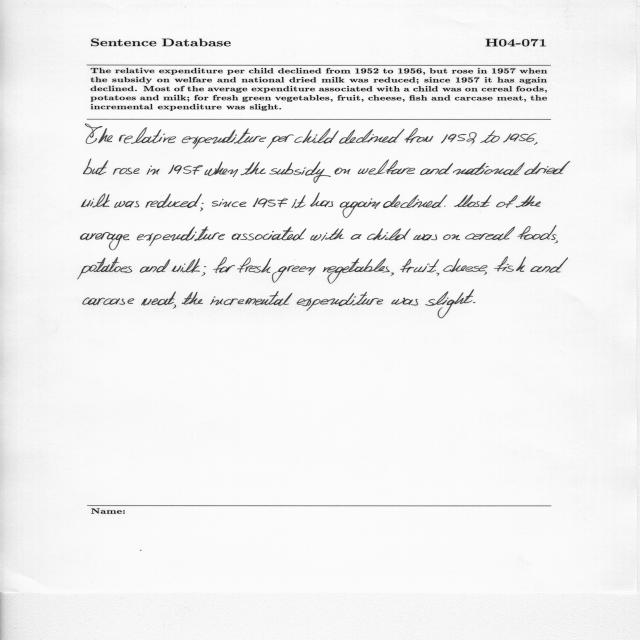word: (269, 161, 351, 183), (182, 128, 266, 149), (323, 258, 390, 284), (137, 227, 225, 246), (297, 292, 383, 311), (425, 290, 474, 318), (210, 291, 292, 306), (78, 257, 132, 279), (232, 227, 307, 241), (339, 129, 405, 144), (119, 127, 176, 144), (453, 163, 525, 176), (383, 194, 448, 208), (81, 232, 130, 250), (145, 193, 202, 208), (340, 198, 381, 218), (272, 266, 316, 283), (369, 159, 415, 175), (294, 128, 339, 144), (465, 227, 515, 241), (524, 161, 570, 175), (444, 258, 488, 272), (530, 257, 568, 273), (518, 225, 557, 240), (367, 228, 411, 241), (85, 124, 113, 144), (400, 259, 439, 273), (237, 257, 271, 273), (205, 162, 239, 177), (141, 292, 176, 306), (454, 194, 491, 207), (494, 257, 526, 272), (310, 228, 344, 241), (404, 128, 433, 143), (441, 132, 477, 144), (140, 259, 170, 273), (172, 258, 200, 273), (83, 298, 134, 306), (81, 194, 110, 208), (84, 159, 109, 175), (420, 163, 453, 175), (267, 135, 294, 149), (213, 257, 235, 273), (168, 165, 203, 175), (253, 198, 288, 208), (515, 195, 541, 208), (241, 162, 266, 175), (310, 193, 333, 207), (503, 134, 537, 143), (496, 195, 518, 208), (212, 199, 247, 207), (182, 292, 203, 305), (480, 130, 500, 143), (391, 298, 418, 306), (113, 168, 140, 175), (114, 201, 140, 208), (292, 195, 306, 208), (413, 234, 437, 240), (147, 166, 160, 175), (443, 234, 460, 240), (358, 168, 369, 174), (351, 234, 362, 240), (201, 266, 206, 276), (200, 203, 204, 211), (390, 273, 394, 277), (173, 304, 176, 309), (484, 271, 487, 275), (534, 142, 537, 145), (437, 273, 440, 276), (554, 241, 558, 243), (473, 302, 476, 303), (444, 206, 446, 207)
